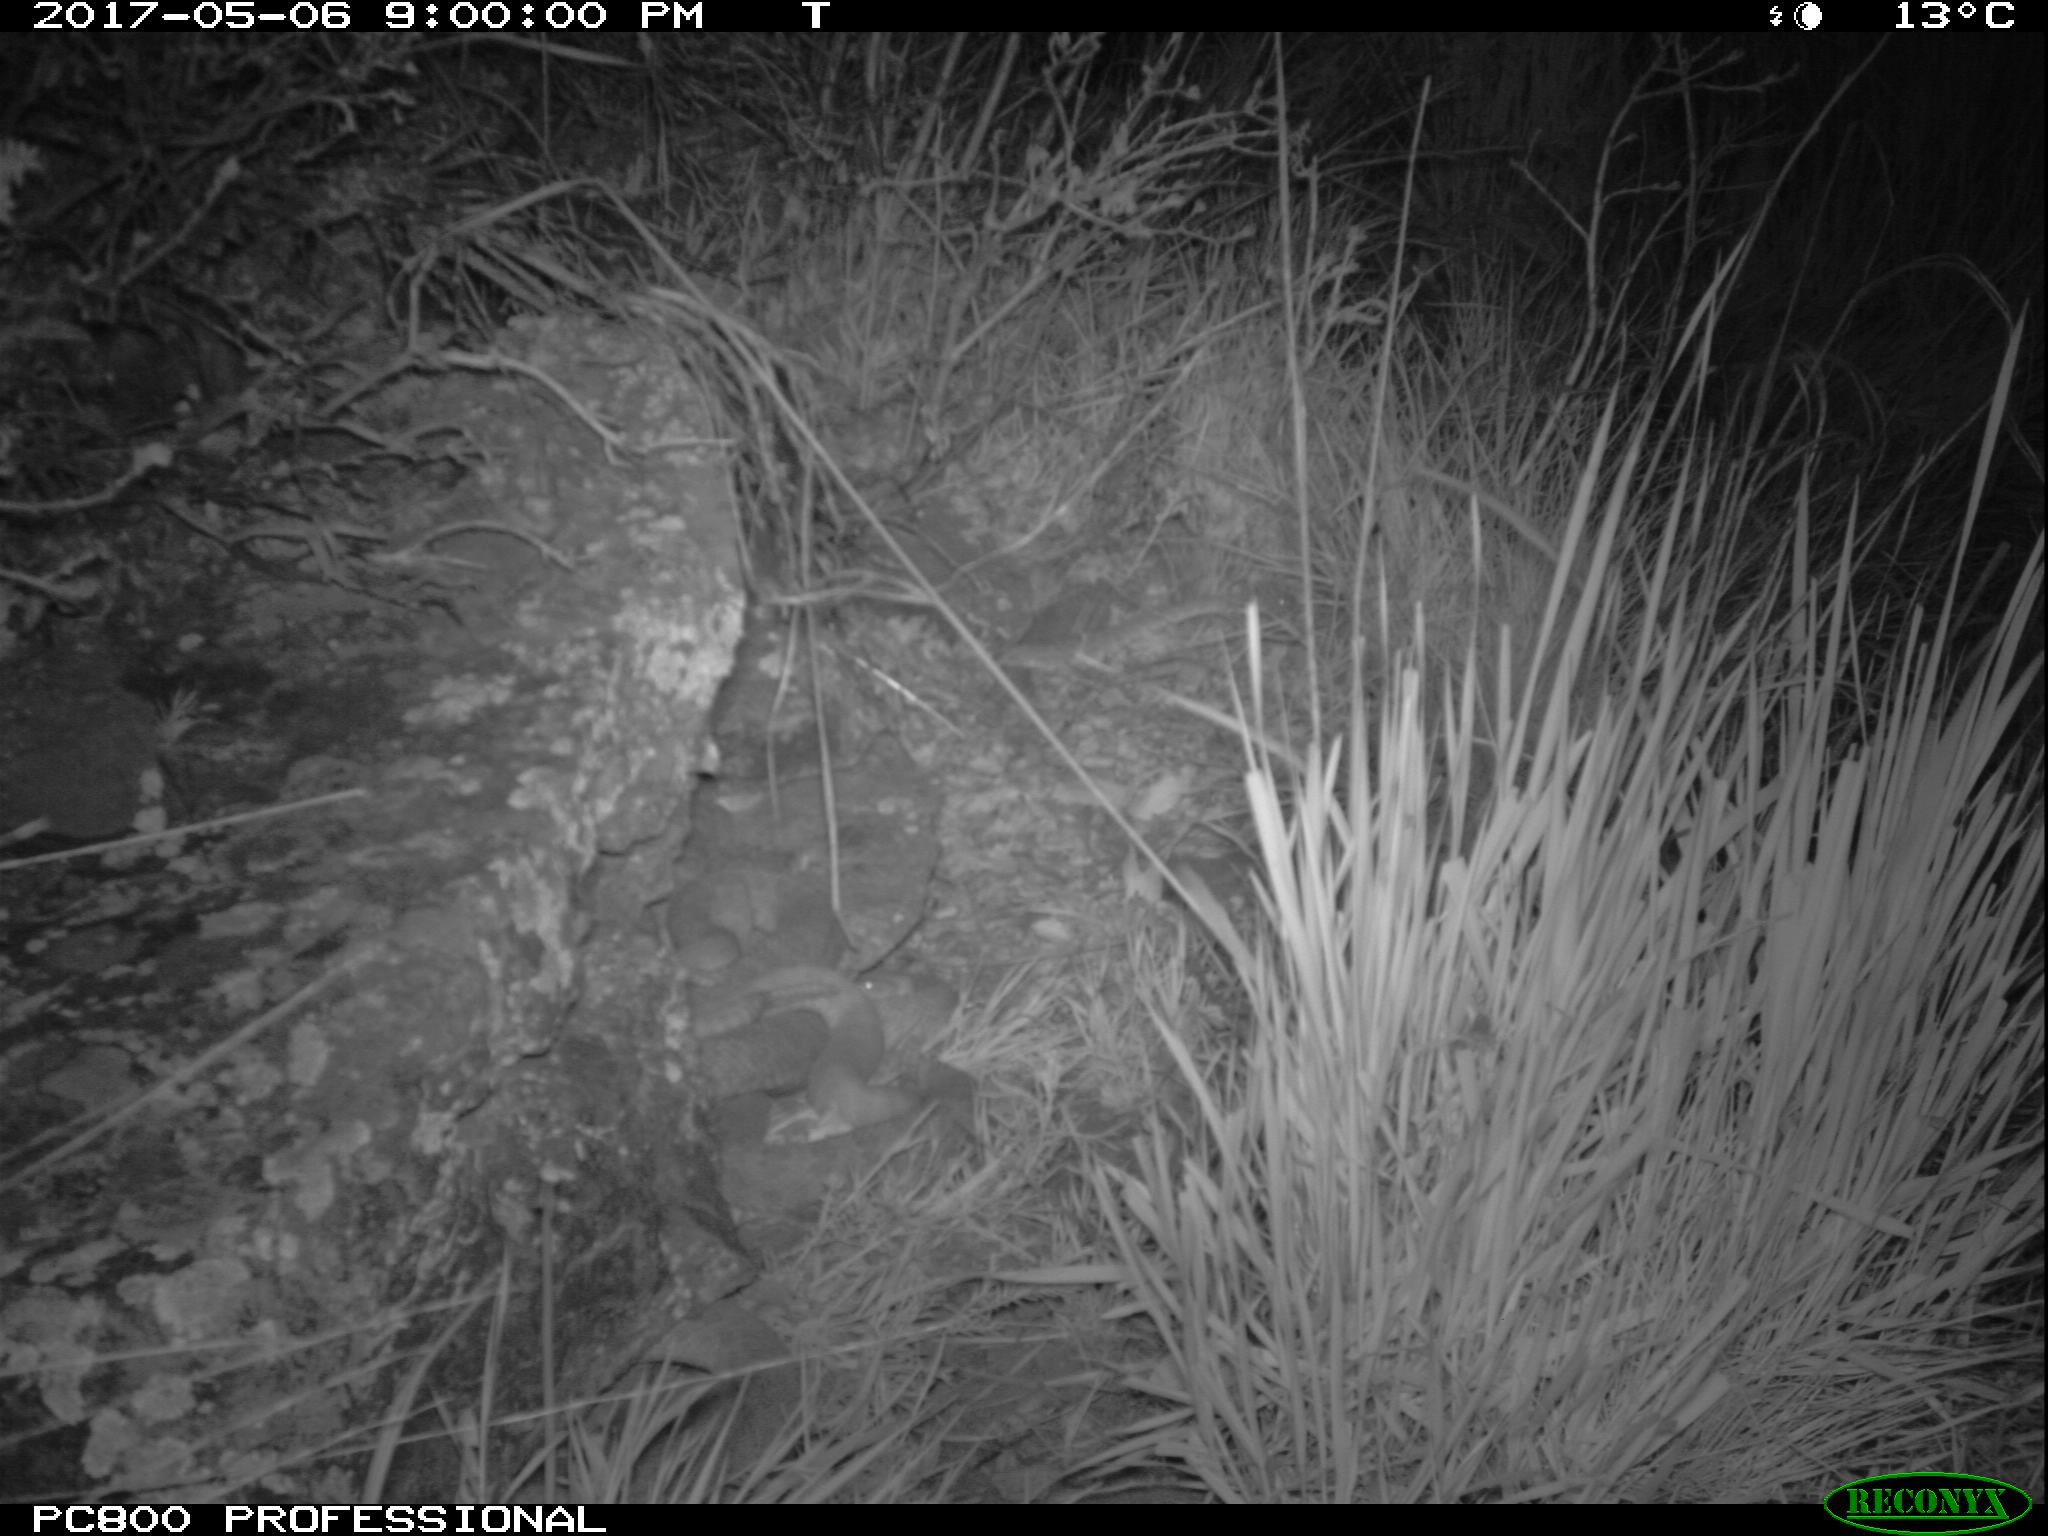snake: (689, 992, 997, 1199), (643, 1304, 818, 1475), (669, 854, 868, 995), (1022, 581, 1308, 665)
